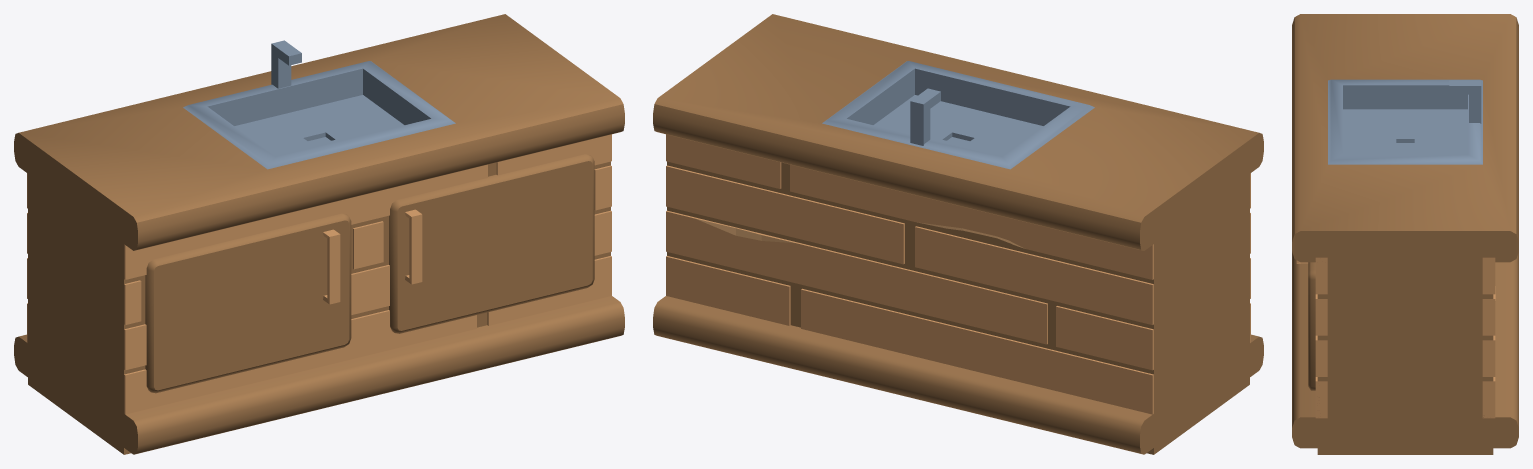
Rendered from cc0-counter-sink-lod0.glb.
The picture shows the model from 3 angles, left to right: view 1: azimuth 30°, elevation 25°; view 2: azimuth 150°, elevation 25°; view 3: azimuth 270°, elevation 25°; orthographic projection. The views are drawn at different scales.
Visible parts, largest first — view 1: part_0; view 2: part_0; view 3: part_0.
Boxes of the visible parts, x1,y1,x2,y2 form: part_0: (14, 14, 624, 454); part_0: (653, 14, 1263, 454); part_0: (1292, 14, 1518, 454).
Bounding box in the file's own units: 4 × 2.26 × 1.77.
1 material, 1 textured.
